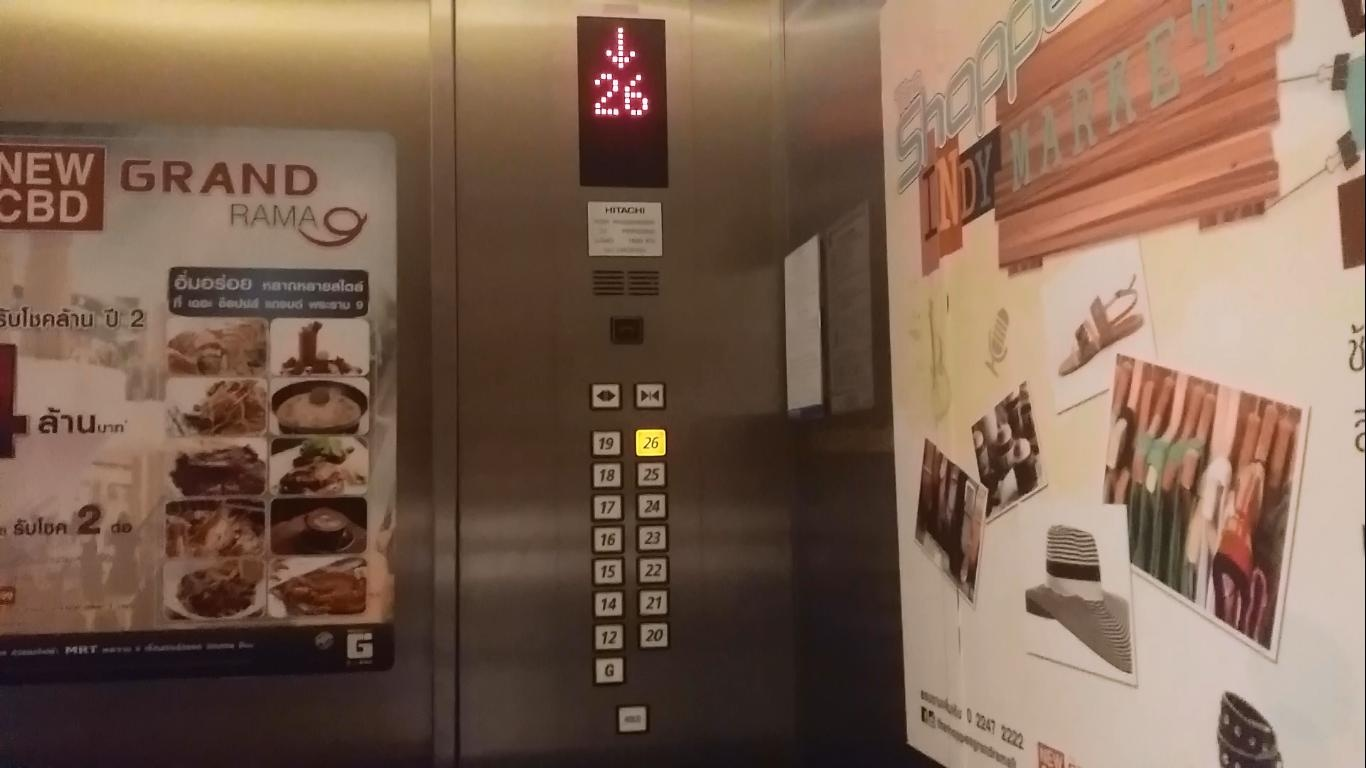12: (592, 623, 625, 652)
14: (592, 590, 625, 619)
15: (592, 557, 625, 587)
16: (591, 525, 623, 553)
17: (591, 493, 623, 521)
18: (590, 460, 623, 490)
19: (591, 429, 623, 457)
20: (637, 621, 670, 650)
21: (637, 588, 670, 617)
22: (636, 556, 669, 585)
23: (635, 524, 668, 553)
24: (635, 492, 668, 521)
25: (633, 461, 667, 490)
26: (634, 428, 667, 457)
G: (593, 656, 626, 685)
blur: (612, 316, 644, 346)
close: (634, 382, 667, 410)
led: (573, 14, 671, 190)
open: (591, 383, 622, 409)
text_blur: (618, 703, 648, 735)
